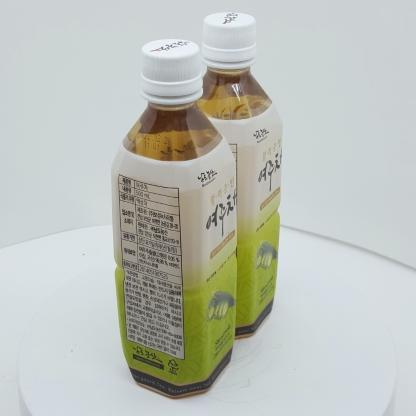-----------500ML: (111, 39, 237, 397)
